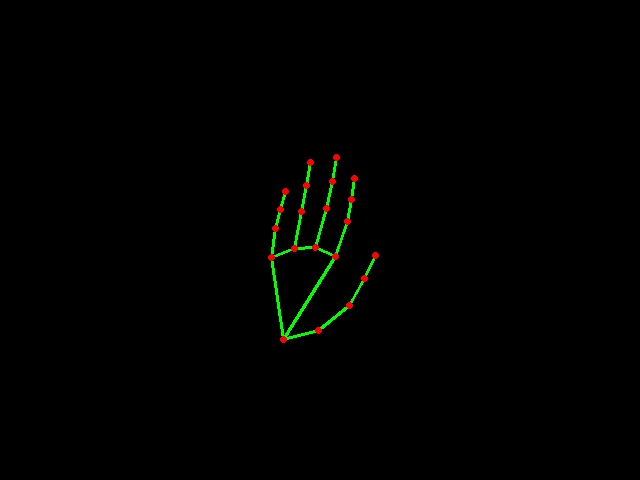stop: (261, 139, 387, 348)
